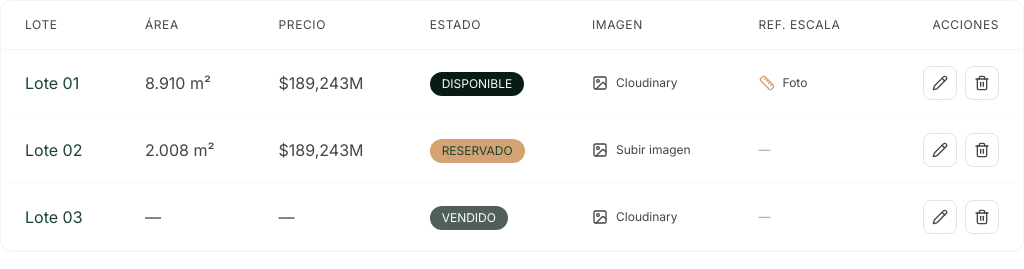
Test case: LotsTable › Delete with confirmation › shows confirmation prompt on first delete click
Click the button named "Eliminar lote 01" at (982, 83), box x1=965 y1=66 x2=999 y2=100
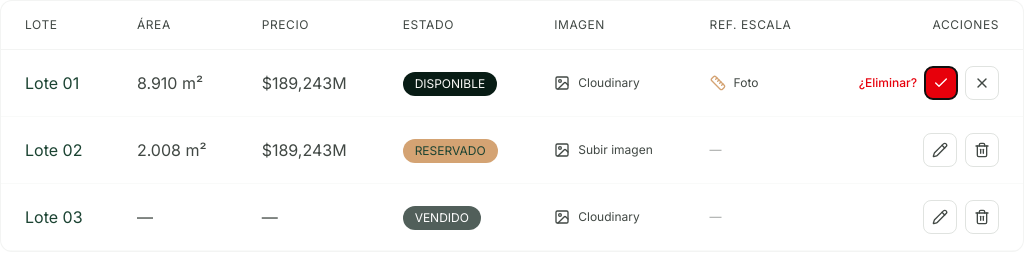
Result: the text "¿Eliminar?" is shown at x1=859 y1=75 x2=917 y2=91
Result: the button named "Confirmar eliminación del lote 01" is shown at x1=925 y1=67 x2=957 y2=99
